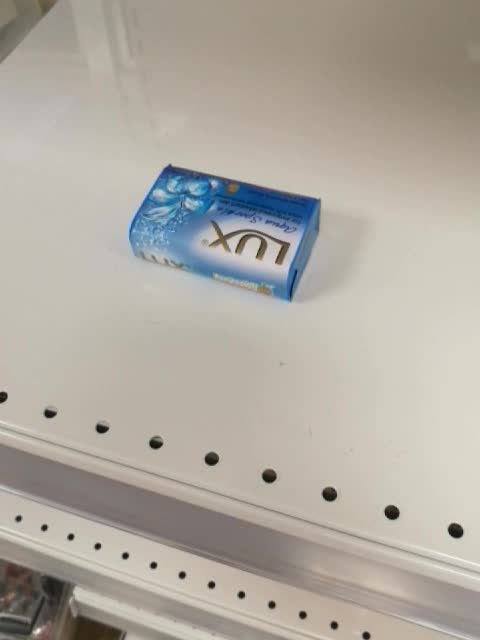soap: (126, 163, 323, 305)
